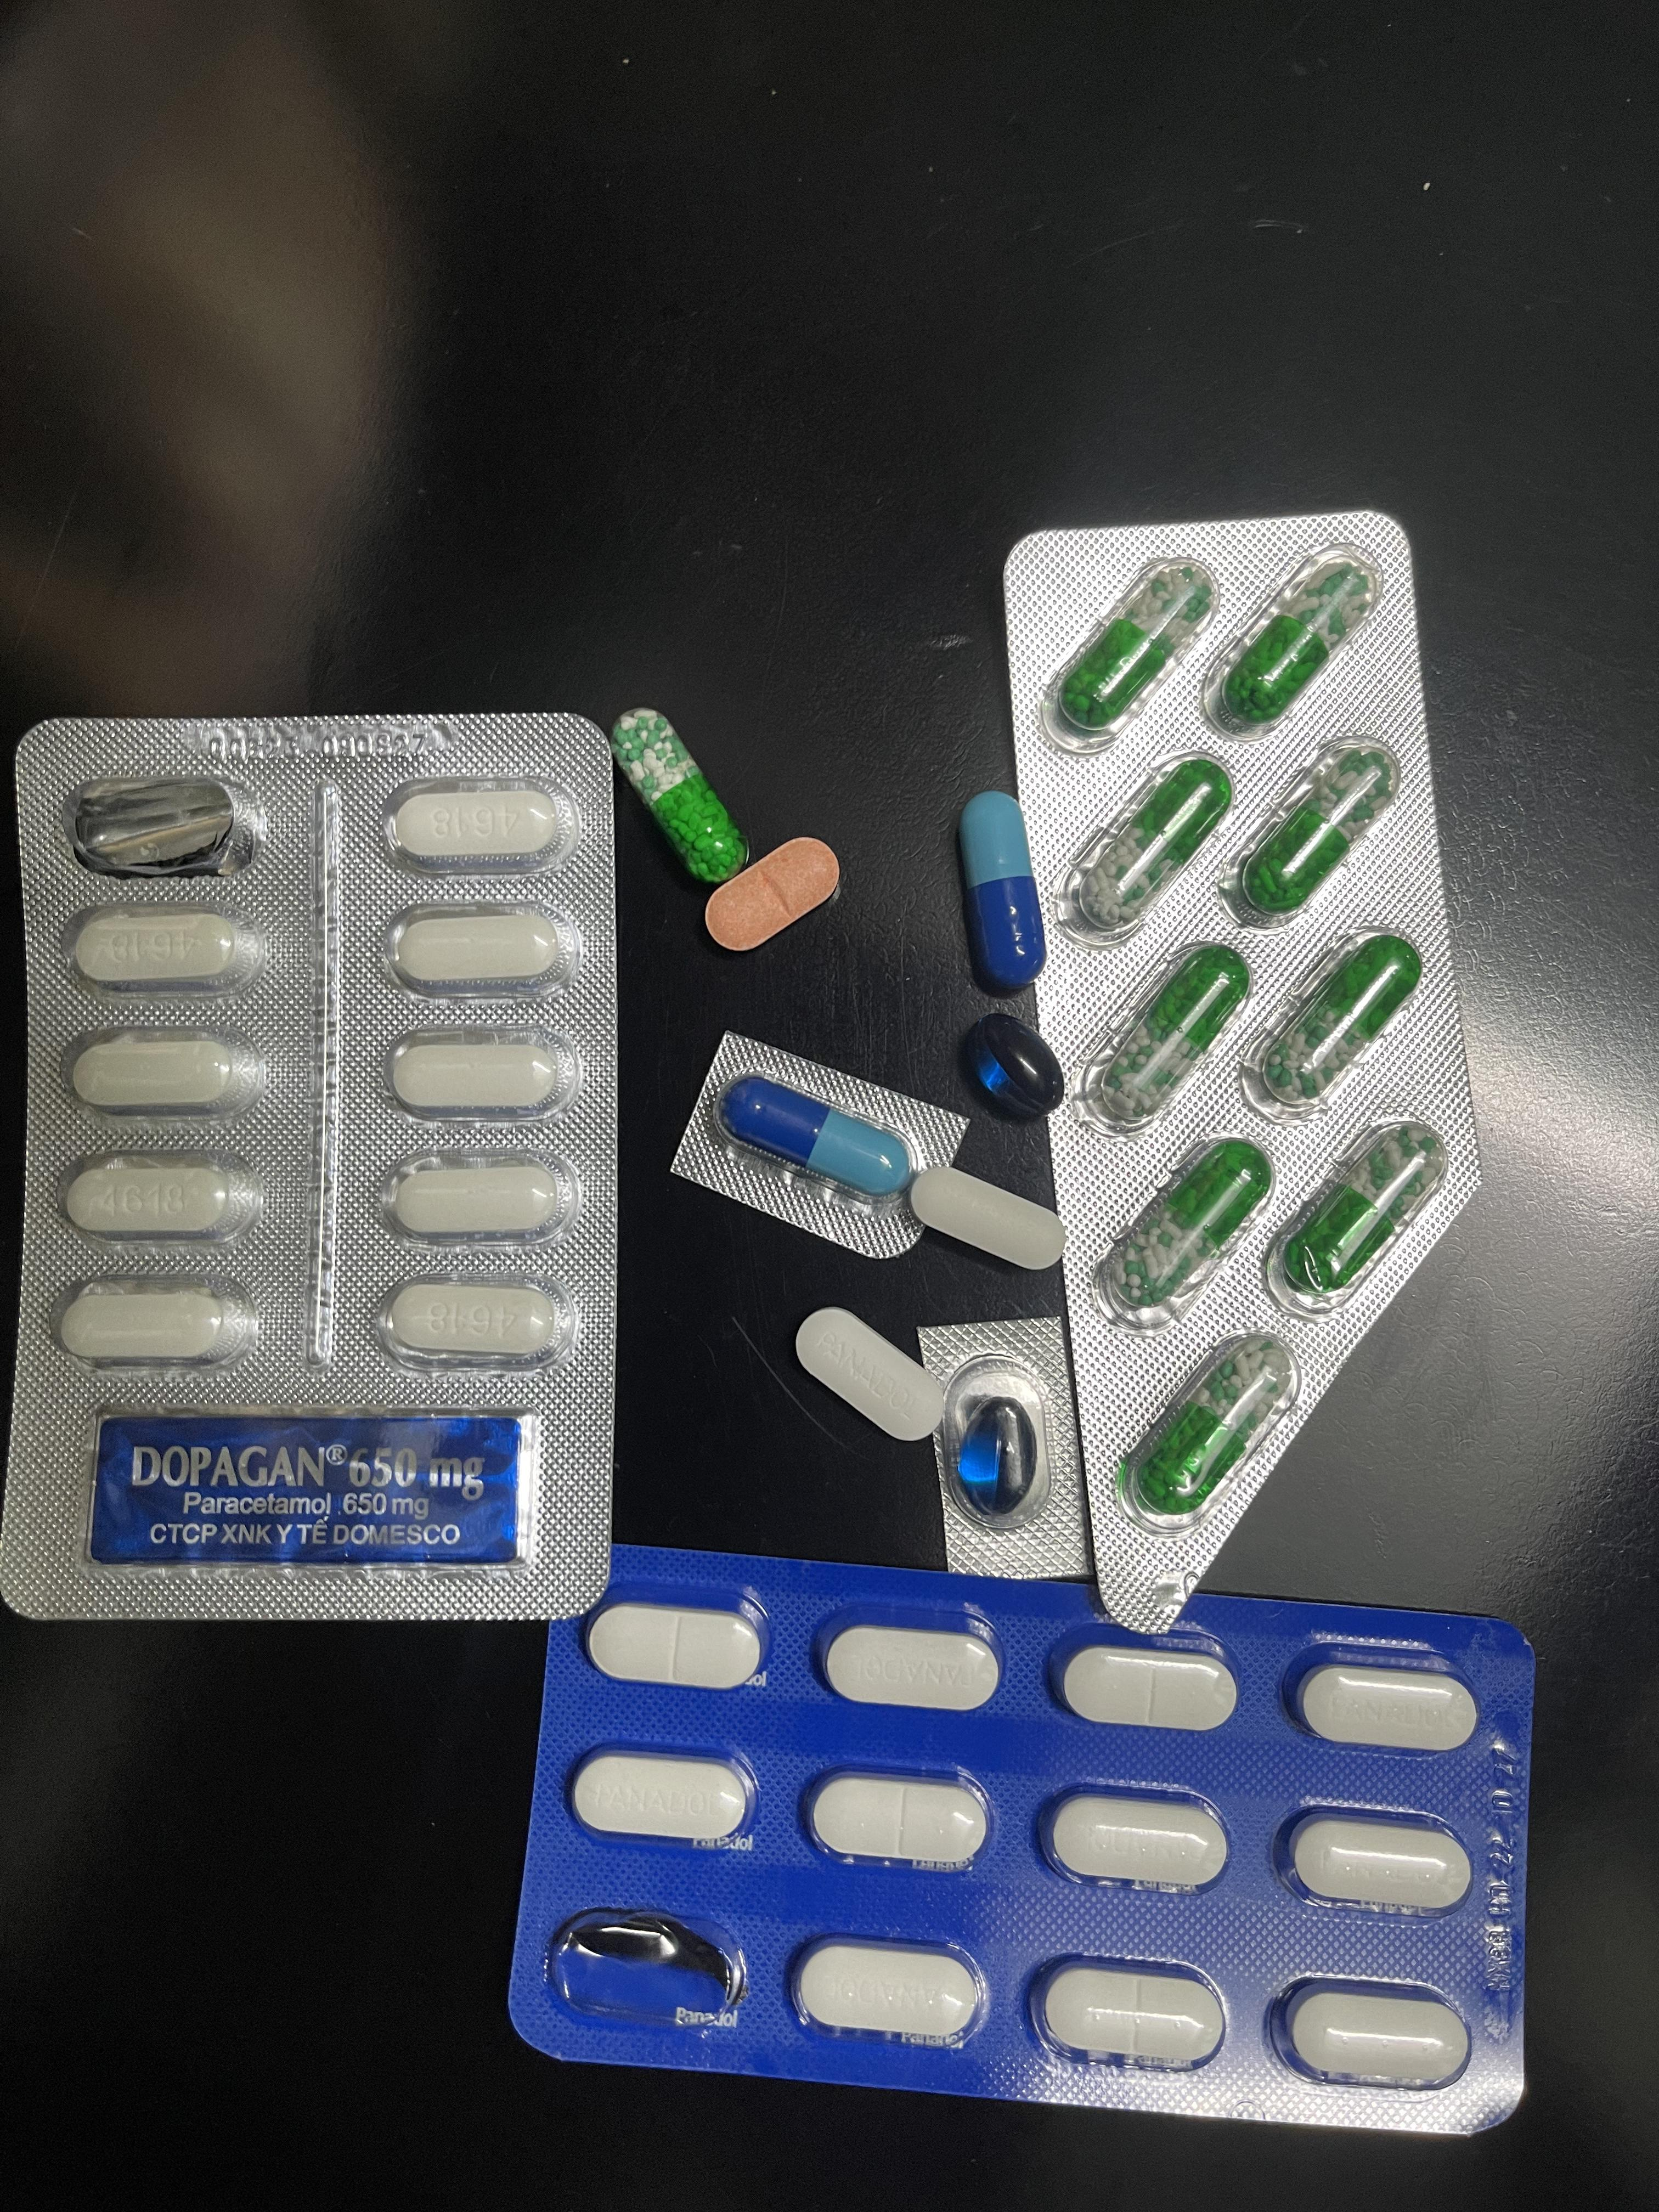Lincomyxin_500mg: (960, 1008, 1068, 1118), (953, 1397, 1035, 1519)
Loratadine_10mg: (702, 838, 836, 953)
Paracetamol_350mg: (1270, 1977, 1481, 2094), (1276, 1806, 1478, 1918), (1028, 1956, 1220, 2073), (1284, 1646, 1483, 1754), (568, 1745, 762, 1850), (803, 1764, 993, 1871), (795, 1306, 946, 1439), (816, 1606, 1004, 1712), (1039, 1785, 1223, 1892), (1051, 1627, 1236, 1728), (796, 1942, 981, 2041), (582, 1581, 765, 1679)
Paracetamol_500mg: (56, 1148, 263, 1245), (51, 1275, 261, 1371), (376, 1275, 573, 1372), (385, 777, 579, 874), (382, 1148, 577, 1244), (61, 1026, 267, 1115), (64, 904, 267, 993), (385, 900, 577, 991), (910, 1163, 1066, 1271), (383, 1024, 575, 1111)
Paracetamol_650mg: (1263, 1118, 1450, 1313), (1112, 1336, 1295, 1533), (1239, 930, 1424, 1123), (1199, 549, 1382, 742), (1093, 1132, 1270, 1324), (1225, 737, 1406, 921), (1077, 944, 1251, 1134), (1046, 556, 1215, 747), (1061, 756, 1232, 939), (615, 709, 748, 887)
pill: (721, 1076, 913, 1200), (957, 792, 1047, 991)
